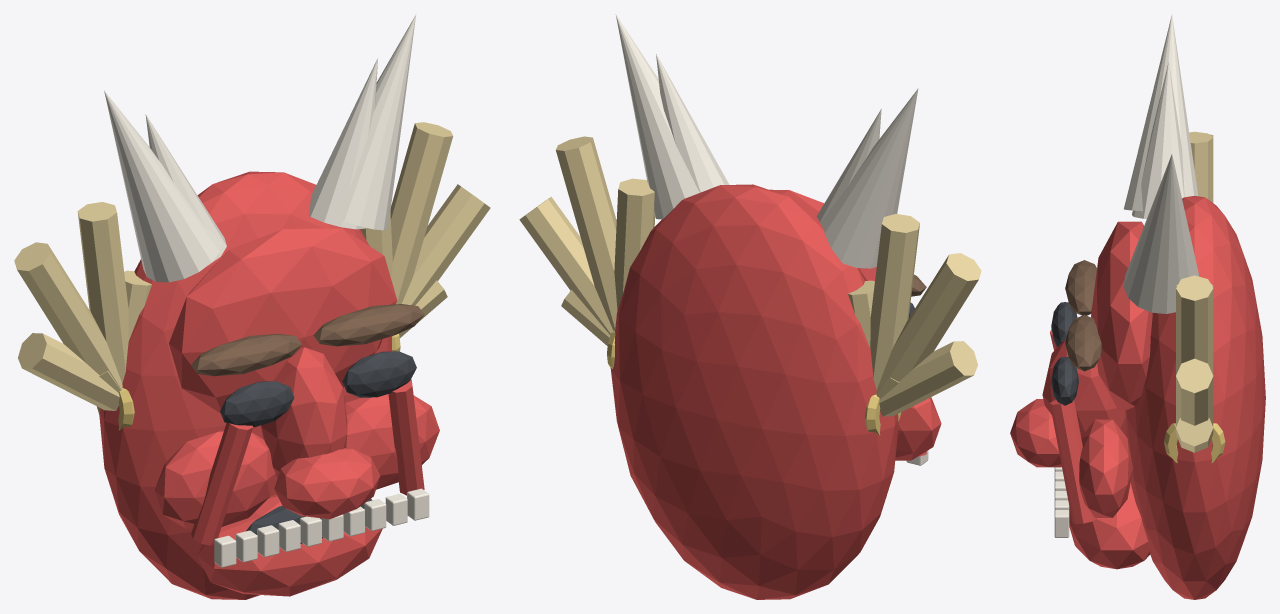
File: local_namahage_mask.glb
3 renders of one model, left to right at view 1: azimuth 30°, elevation 25°; view 2: azimuth 150°, elevation 25°; view 3: azimuth 270°, elevation 25°, orthographic. The views are drawn at different scales.
Visible parts, largest first — view 1: Namahage fearful northern oni mask substantial face blank, Namahage fearful northern oni mask sculpted forehead, Long namahage horns, Namahage fearful northern oni mask chin, Namahage fearful northern oni mask nose bridge, Long namahage horns.001, Namahage fearful northern oni mask carved cheek, Wild namahage straw mane_00.006, Wild namahage straw mane_00.001, Namahage fearful northern oni mask nasal tip, Wild namahage straw mane_00.002, Namahage fearful northern oni mask carved cheek.001 (+21 smaller); view 2: Namahage fearful northern oni mask substantial face blank, Long namahage horns, Wild namahage straw mane_00.006, Long namahage horns.001, Wild namahage straw mane_00.001, Wild namahage straw mane_00.002, Wild namahage straw mane_00.005, Wild namahage straw mane_00.003, Wild namahage straw mane_00.007, Namahage fearful northern oni mask curving oni horn.001, Namahage fearful northern oni mask carved cheek, Namahage fearful northern oni mask curving oni horn (+3 smaller); view 3: Namahage fearful northern oni mask substantial face blank, Namahage fearful northern oni mask sculpted forehead, Long namahage horns.001, Namahage fearful northern oni mask carved cheek.001, Namahage fearful northern oni mask chin, Long namahage horns, Wild namahage straw mane_00.006, Namahage fearful northern oni mask curving oni horn, Namahage fearful northern oni mask nose bridge, Namahage fearful northern oni mask angry cheek ink.001, Namahage fearful northern oni mask nasal tip, Wild namahage straw mane_00.005 (+8 smaller).
Boxes of the visible parts, x1,y1,x2,y2 form: Namahage fearful northern oni mask substantial face blank: (99,171,392,599); Namahage fearful northern oni mask sculpted forehead: (169,228,397,413); Long namahage horns: (104,90,221,282); Namahage fearful northern oni mask chin: (197,494,382,596); Namahage fearful northern oni mask nose bridge: (261,347,347,479); Long namahage horns.001: (330,14,416,230); Namahage fearful northern oni mask carved cheek: (154,430,276,528); Wild namahage straw mane_00.006: (390,122,453,304); Wild namahage straw mane_00.001: (77,202,128,382); Namahage fearful northern oni mask nasal tip: (274,448,380,519); Wild namahage straw mane_00.002: (14,242,122,390); Namahage fearful northern oni mask carved cheek.001: (345,394,439,489); Namahage fearful northern oni mask substantial face blank: (610,184,898,599); Long namahage horns: (820,88,918,268); Wild namahage straw mane_00.006: (556,136,617,330); Long namahage horns.001: (615,14,699,219); Wild namahage straw mane_00.001: (870,214,919,389); Wild namahage straw mane_00.002: (876,253,981,396); Wild namahage straw mane_00.005: (519,196,613,334); Wild namahage straw mane_00.003: (879,341,977,416); Wild namahage straw mane_00.007: (614,178,654,310); Namahage fearful northern oni mask curving oni horn.001: (656,54,729,192); Namahage fearful northern oni mask carved cheek: (895,397,941,460); Namahage fearful northern oni mask curving oni horn: (816,109,881,222); Namahage fearful northern oni mask substantial face blank: (1125,196,1265,599); Namahage fearful northern oni mask sculpted forehead: (1091,221,1152,409); Long namahage horns.001: (1123,154,1199,313); Namahage fearful northern oni mask carved cheek.001: (1079,419,1132,517); Namahage fearful northern oni mask chin: (1069,482,1150,569); Long namahage horns: (1124,15,1198,211); Wild namahage straw mane_00.006: (1176,275,1213,374); Namahage fearful northern oni mask curving oni horn: (1132,62,1184,218); Namahage fearful northern oni mask nose bridge: (1042,338,1125,436); Namahage fearful northern oni mask angry cheek ink.001: (1050,400,1096,524); Namahage fearful northern oni mask nasal tip: (1010,399,1061,467); Wild namahage straw mane_00.005: (1176,358,1213,426).
Size of the model in its own units: 1.69 by 1.9 by 0.8666.
